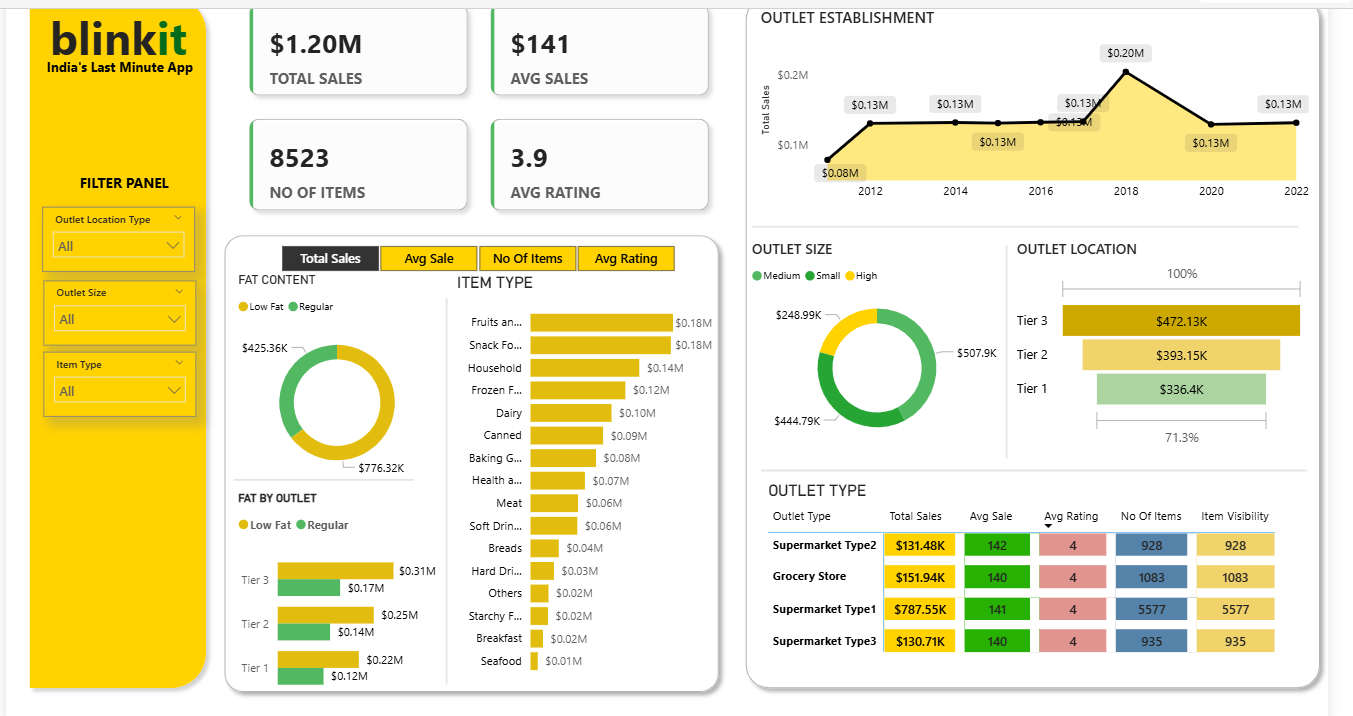

What the dashboard file says about the page in this screenshot:
{"tool":"powerbi","page":{"name":"Page 1","canvas":[1400,800],"ordinal":0},"visuals":[{"type":"shape","box":[16.5,21,205,750],"z":0},{"type":"textbox","box":[28.5,36,180.1,84],"z":1000},{"type":"textbox","box":[18,90.1,204.1,30],"z":2000},{"type":"cardVisual","fields":{"Data":["Sum(Sheet1.Sales)","Avg(Sheet1.Sales)","CountNonNull(Sheet1.Index)","Avg(Sheet1.Rating)"]},"box":[240.7,21.2,521.2,252.6],"z":3000},{"type":"shape","box":[222.2,273.8,541,501.3],"z":4000},{"type":"donutChart","title":"FAT CONTENT","fields":{"Y":["Sheet1.Total Sales"],"Category":["Sheet1.Item Fat Content"]},"box":[240.7,322.8,219.6,230.2],"z":5000},{"type":"slicer","fields":{"Values":["Matrics.Matrics"]},"box":[265.9,287,465.6,35.7],"z":6000},{"type":"clusteredBarChart","title":"FAT BY OUTLET","fields":{"Y":["Sheet1.Total Sales"],"Category":["Sheet1.Outlet Location Type"],"Series":["Sheet1.Item Fat Content"]},"box":[240.7,554.2,219.6,230.2],"z":7000},{"type":"shape","box":[240.7,530.4,190.5,22.5],"z":8000},{"type":"shape","box":[460.3,349.2,11.9,408.7],"z":9000},{"type":"barChart","title":"ITEM TYPE","fields":{"Y":["Sheet1.Total Sales"],"Category":["Sheet1.Item Type"]},"box":[472.2,322.8,280.4,435.2],"z":10000},{"type":"shape","box":[773.8,21.2,625.7,750],"z":11000},{"type":"lineChart","title":"OUTLET ESTABLISHMENT","fields":{"Y":["Sheet1.Total Sales"],"Category":["Sheet1.Outlet Establishment Year"]},"box":[793.7,41,590,213],"z":12000},{"type":"shape","box":[789.7,267.2,578,13.2],"z":13000},{"type":"donutChart","title":"OUTLET SIZE","fields":{"Y":["Sheet1.Total Sales"],"Category":["Sheet1.Outlet Size"]},"box":[784.4,287,275.1,224.9],"z":14000},{"type":"shape","box":[1052.9,293.7,11.9,224.9],"z":15000},{"type":"funnel","title":"OUTLET LOCATION","fields":{"Y":["Sum(Sheet1.Sales)"],"Category":["Sheet1.Outlet Location Type"]},"box":[1064.8,287,314.8,224.9],"z":16000},{"type":"shape","box":[798.9,525.1,578,13.2],"z":17000},{"type":"pivotTable","title":"OUTLET TYPE","fields":{"Rows":["Sheet1.Outlet Type"],"Values":["Sheet1.Total Sales","Sheet1.Avg Sale","Sheet1.Avg Rating","Sheet1.No Of Items","CountNonNull(Sheet1.Item Visibility)"]},"box":[801.6,542.3,570.1,215.6],"z":18000},{"type":"slicer","fields":{"Values":["Sheet1.Outlet Location Type"]},"box":[38.4,252.6,161.4,68.8],"z":19000},{"type":"slicer","fields":{"Values":["Sheet1.Outlet Size"]},"box":[39.7,330.7,161.4,68.8],"z":20000},{"type":"slicer","fields":{"Values":["Sheet1.Item Type"]},"box":[39.7,406.1,161.4,68.8],"z":21000},{"type":"textbox","box":[0,211.6,250,41],"z":22000}]}

Visuals, with their boxes on the page's 1400x800 design canvas (x1, y1, x2, y2). These are canvas units, not pixel positions in the 1353x716 screenshot, which may show the page scaled, cropped or inside an application window:
shape: bbox=(16, 21, 222, 771)
textbox: bbox=(28, 36, 209, 120)
textbox: bbox=(18, 90, 222, 120)
cardVisual - Sum(Sheet1.Sales) x Avg(Sheet1.Sales): bbox=(241, 21, 762, 274)
shape: bbox=(222, 274, 763, 775)
"FAT CONTENT" donutChart: bbox=(241, 323, 460, 553)
slicer - Matrics.Matrics: bbox=(266, 287, 732, 323)
"FAT BY OUTLET" clusteredBarChart: bbox=(241, 554, 460, 784)
shape: bbox=(241, 530, 431, 553)
shape: bbox=(460, 349, 472, 758)
"ITEM TYPE" barChart: bbox=(472, 323, 753, 758)
shape: bbox=(774, 21, 1400, 771)
"OUTLET ESTABLISHMENT" lineChart: bbox=(794, 41, 1384, 254)
shape: bbox=(790, 267, 1368, 280)
"OUTLET SIZE" donutChart: bbox=(784, 287, 1060, 512)
shape: bbox=(1053, 294, 1065, 519)
"OUTLET LOCATION" funnel: bbox=(1065, 287, 1380, 512)
shape: bbox=(799, 525, 1377, 538)
"OUTLET TYPE" pivotTable: bbox=(802, 542, 1372, 758)
slicer - Sheet1.Outlet Location Type: bbox=(38, 253, 200, 321)
slicer - Sheet1.Outlet Size: bbox=(40, 331, 201, 400)
slicer - Sheet1.Item Type: bbox=(40, 406, 201, 475)
textbox: bbox=(0, 212, 250, 253)
